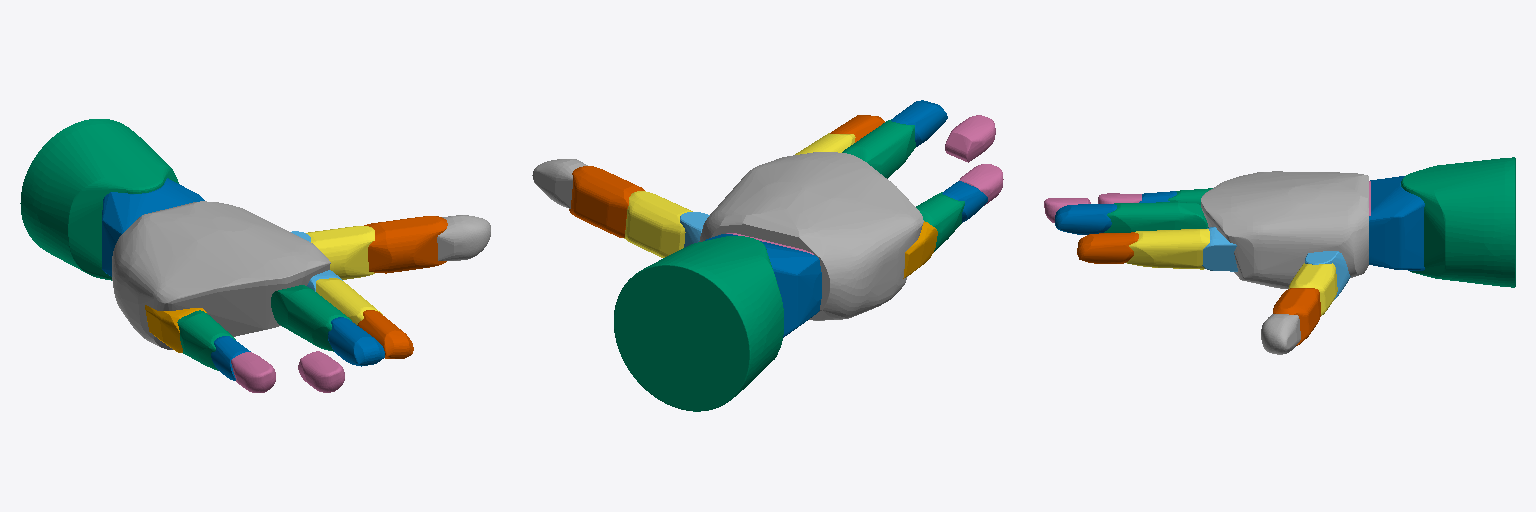
--- Facts derived from the render (not from the file) ---
3 views of the same robot in one strip: view 1: azimuth 30°, elevation 25°; view 2: azimuth 150°, elevation 25°; view 3: azimuth 270°, elevation 25° (orthographic).
Model MPL with 47 links and 46 joints (22 continuous, 24 fixed), rooted at forearm, posed every joint at zero.
Visible links, largest first — view 1: palm, wristy, thumb2, wristx, middle1, thumb1, thumb3, middle2, pinky1, index2, ring3, index1 (+3 smaller); view 2: wristy, palm, wristx, thumb2, thumb1, middle1, ring3, thumb3, pinky1, middle2, pinky0, pinky3 (+4 smaller); view 3: palm, wristy, wristx, index1, middle1, index2, middle2, thumb2, thumb3, thumb1, index0, thumb0.
Boxes of the visible links, x1=… form: palm: x1=112, y1=201, x2=330, y2=349; wristy: x1=20, y1=119, x2=178, y2=280; thumb2: x1=364, y1=216, x2=447, y2=273; wristx: x1=102, y1=178, x2=204, y2=276; middle1: x1=271, y1=285, x2=351, y2=351; thumb1: x1=306, y1=226, x2=374, y2=279; thumb3: x1=437, y1=215, x2=490, y2=260; middle2: x1=328, y1=317, x2=384, y2=366; pinky1: x1=177, y1=310, x2=235, y2=370; index2: x1=357, y1=310, x2=413, y2=358; ring3: x1=298, y1=351, x2=344, y2=392; index1: x1=316, y1=278, x2=382, y2=324; wristy: x1=614, y1=236, x2=783, y2=411; palm: x1=699, y1=152, x2=923, y2=320; wristx: x1=705, y1=234, x2=821, y2=337; thumb2: x1=569, y1=166, x2=644, y2=237; thumb1: x1=624, y1=191, x2=692, y2=257; middle1: x1=842, y1=119, x2=915, y2=178; ring3: x1=945, y1=115, x2=995, y2=162; thumb3: x1=532, y1=159, x2=587, y2=208; pinky1: x1=916, y1=192, x2=964, y2=251; middle2: x1=891, y1=100, x2=947, y2=146; pinky0: x1=903, y1=221, x2=937, y2=278; pinky3: x1=959, y1=164, x2=1003, y2=205; palm: x1=1201, y1=171, x2=1368, y2=288; wristy: x1=1401, y1=157, x2=1515, y2=287; wristx: x1=1369, y1=176, x2=1424, y2=270; index1: x1=1126, y1=229, x2=1209, y2=269; middle1: x1=1104, y1=202, x2=1207, y2=232; index2: x1=1077, y1=232, x2=1138, y2=263; middle2: x1=1055, y1=204, x2=1116, y2=234; thumb2: x1=1273, y1=288, x2=1320, y2=345; thumb3: x1=1261, y1=314, x2=1300, y2=354; thumb1: x1=1289, y1=263, x2=1337, y2=315; index0: x1=1202, y1=227, x2=1237, y2=271; thumb0: x1=1305, y1=251, x2=1350, y2=299.
Bounding box of the posed robot: 0.1896 × 0.2529 × 0.07 m (x, y, z).
18 mesh visuals loaded from 24 distinct referenced files (18 OBJ); not drawn: 6 (reference not matched to a file when rendering).

URDF robot description (MPL):
<?xml version="0.0" ?>
<robot name="MPL">
	<link name="forearm">
		<inertial>
			<origin rpy="0.00000 -0.00000 0.00000" xyz="0.00000 0.00000 0.00000"/>
			<mass value="0.02513"/>
			<inertia ixx="0.00000" ixy="0" ixz="0" iyy="0.00000" iyz="0" izz="0.00001"/>
		</inertial>
		<collision>
			<origin rpy="0.00000 -0.00000 0.00000" xyz="0.00000 0.00000 0.00000"/>
			<geometry>
				<cylinder length="0.02000" radius="0.02000"/>
			</geometry>
		</collision>
	</link>
	<link name="link0_2">
		<inertial>
			<origin rpy="0.00000 -0.00000 0.00000" xyz="0.00000 0.00000 0.00000"/>
			<mass value="0.00000"/>
			<inertia ixx="0.00000" ixy="0" ixz="0" iyy="0.00000" iyz="0" izz="0.00000"/>
		</inertial>
	</link>
	<link name="wristy">
		<inertial>
			<origin rpy="-0.00695 -0.02342 1.56965" xyz="-0.00007 -0.02178 -0.00029"/>
			<mass value="0.02729"/>
			<inertia ixx="0.00011" ixy="0" ixz="0" iyy="0.00010" iyz="0" izz="0.00010"/>
		</inertial>
		<collision>
			<origin rpy="0.00000 -0.00000 0.00000" xyz="0.00000 -0.00000 0.00000"/>
			<geometry>
				<mesh filename="meshes/wristy_collision.obj" scale="1.00000 1.00000 1.00000"/>
			</geometry>
		</collision>
		<visual>
			<origin rpy="0.00000 -0.00000 0.00000" xyz="0.00000 -0.00000 0.00000"/>
			<geometry>
				<mesh filename="meshes/wristy.obj" scale="1.00000 1.00000 1.00000"/>
			</geometry>
		</visual>
	</link>
	<link name="link0_4">
		<inertial>
			<origin rpy="0.00000 -0.00000 0.00000" xyz="0.00000 0.00000 0.00000"/>
			<mass value="0.00000"/>
			<inertia ixx="0.00000" ixy="0" ixz="0" iyy="0.00000" iyz="0" izz="0.00000"/>
		</inertial>
	</link>
	<link name="wristx">
		<inertial>
			<origin rpy="-1.55663 -1.51744 -1.43174" xyz="0.00139 -0.00975 -0.00253"/>
			<mass value="0.01069"/>
			<inertia ixx="0.00005" ixy="0" ixz="0" iyy="0.00004" iyz="0" izz="0.00004"/>
		</inertial>
		<collision>
			<origin rpy="0.00000 -0.00000 0.00000" xyz="-0.00000 0.00000 0.00000"/>
			<geometry>
				<mesh filename="meshes/wristx_collision.obj" scale="1.00000 1.00000 1.00000"/>
			</geometry>
		</collision>
		<visual>
			<origin rpy="0.00000 -0.00000 0.00000" xyz="-0.00000 0.00000 0.00000"/>
			<geometry>
				<mesh filename="meshes/wristx.obj" scale="1.00000 1.00000 1.00000"/>
			</geometry>
		</visual>
	</link>
	<link name="link0_6">
		<inertial>
			<origin rpy="0.00000 -0.00000 0.00000" xyz="0.00000 0.00000 0.00000"/>
			<mass value="0.00000"/>
			<inertia ixx="0.00000" ixy="0" ixz="0" iyy="0.00000" iyz="0" izz="0.00000"/>
		</inertial>
	</link>
	<link name="wristz">
		<inertial>
			<origin rpy="1.56681 0.10125 1.56186" xyz="0.00058 -0.00126 0.00046"/>
			<mass value="0.00602"/>
			<inertia ixx="0.00002" ixy="0" ixz="0" iyy="0.00002" iyz="0" izz="0.00002"/>
		</inertial>
		<collision>
			<origin rpy="0.00000 -0.00000 0.00000" xyz="-0.00000 0.00000 -0.00000"/>
			<geometry>
				<mesh filename="meshes/wristz_collision.obj" scale="1.00000 1.00000 1.00000"/>
			</geometry>
		</collision>
		<visual>
			<origin rpy="0.00000 -0.00000 0.00000" xyz="-0.00000 0.00000 -0.00000"/>
			<geometry>
				<mesh filename="meshes/wristz.obj" scale="1.00000 1.00000 1.00000"/>
			</geometry>
		</visual>
	</link>
	<link name="palm">
		<inertial>
			<origin rpy="-2.25401 -1.46740 -0.53897" xyz="-0.02179 -0.03761 0.00277"/>
			<mass value="0.11987"/>
			<inertia ixx="0.00105" ixy="0" ixz="0" iyy="0.00075" iyz="0" izz="0.00076"/>
		</inertial>
		<collision>
			<origin rpy="0.00000 -0.00000 0.00000" xyz="-0.00000 0.00000 0.00000"/>
			<geometry>
				<mesh filename="meshes/palm_collision.obj" scale="1.00000 1.00000 1.00000"/>
			</geometry>
		</collision>
		<visual>
			<origin rpy="0.00000 -0.00000 0.00000" xyz="-0.00000 0.00000 0.00000"/>
			<geometry>
				<mesh filename="meshes/palm.obj" scale="1.00000 1.00000 1.00000"/>
			</geometry>
		</visual>
	</link>
	<link name="link0_9">
		<inertial>
			<origin rpy="0.00000 -0.00000 0.00000" xyz="0.00000 0.00000 0.00000"/>
			<mass value="0.00000"/>
			<inertia ixx="0.00000" ixy="0" ixz="0" iyy="0.00000" iyz="0" izz="0.00000"/>
		</inertial>
	</link>
	<link name="thumb0">
		<inertial>
			<origin rpy="1.76706 -0.09351 1.62823" xyz="0.00863 -0.00016 -0.00095"/>
			<mass value="0.00337"/>
			<inertia ixx="0.00001" ixy="0" ixz="0" iyy="0.00001" iyz="0" izz="0.00001"/>
		</inertial>
		<collision>
			<origin rpy="0.00000 -0.00000 0.00000" xyz="0.00000 0.00000 0.00000"/>
			<geometry>
				<mesh filename="meshes/thumb0_collision.obj" scale="1.00000 1.00000 1.00000"/>
			</geometry>
		</collision>
		<visual>
			<origin rpy="0.00000 -0.00000 0.00000" xyz="0.00000 0.00000 0.00000"/>
			<geometry>
				<mesh filename="meshes/thumb0.obj" scale="1.00000 1.00000 1.00000"/>
			</geometry>
		</visual>
	</link>
	<link name="link0_11">
		<inertial>
			<origin rpy="0.00000 -0.00000 0.00000" xyz="0.00000 0.00000 0.00000"/>
			<mass value="0.00000"/>
			<inertia ixx="0.00000" ixy="0" ixz="0" iyy="0.00000" iyz="0" izz="0.00000"/>
		</inertial>
	</link>
	<link name="thumb1">
		<inertial>
			<origin rpy="1.48128 0.01362 1.58734" xyz="0.01902 0.00036 -0.00019"/>
			<mass value="0.00596"/>
			<inertia ixx="0.00002" ixy="0" ixz="0" iyy="0.00002" iyz="0" izz="0.00001"/>
		</inertial>
		<collision>
			<origin rpy="0.00000 -0.00000 0.00000" xyz="0.00000 0.00000 -0.00000"/>
			<geometry>
				<mesh filename="meshes/thumb1_collision.obj" scale="1.00000 1.00000 1.00000"/>
			</geometry>
		</collision>
		<visual>
			<origin rpy="0.00000 -0.00000 0.00000" xyz="0.00000 0.00000 -0.00000"/>
			<geometry>
				<mesh filename="meshes/thumb1.obj" scale="1.00000 1.00000 1.00000"/>
			</geometry>
		</visual>
	</link>
	<link name="link0_13">
		<inertial>
			<origin rpy="0.00000 -0.00000 0.00000" xyz="0.00000 0.00000 0.00000"/>
			<mass value="0.00000"/>
			<inertia ixx="0.00000" ixy="0" ixz="0" iyy="0.00000" iyz="0" izz="0.00000"/>
		</inertial>
	</link>
	<link name="thumb2">
		<inertial>
			<origin rpy="1.49293 -0.04106 1.59651" xyz="0.01890 0.00038 0.00065"/>
			<mass value="0.00600"/>
			<inertia ixx="0.00002" ixy="0" ixz="0" iyy="0.00002" iyz="0" izz="0.00001"/>
		</inertial>
		<collision>
			<origin rpy="0.00000 -0.00000 0.00000" xyz="0.00000 0.00000 -0.00000"/>
			<geometry>
				<mesh filename="meshes/thumb2_collision.obj" scale="1.00000 1.00000 1.00000"/>
			</geometry>
		</collision>
		<visual>
			<origin rpy="0.00000 -0.00000 0.00000" xyz="0.00000 0.00000 -0.00000"/>
			<geometry>
				<mesh filename="meshes/thumb2.obj" scale="1.00000 1.00000 1.00000"/>
			</geometry>
		</visual>
	</link>
	<link name="link0_15">
		<inertial>
			<origin rpy="0.00000 -0.00000 0.00000" xyz="0.00000 0.00000 0.00000"/>
			<mass value="0.00000"/>
			<inertia ixx="0.00000" ixy="0" ixz="0" iyy="0.00000" iyz="0" izz="0.00000"/>
		</inertial>
	</link>
	<link name="thumb3">
		<inertial>
			<origin rpy="1.49293 -0.04106 1.59651" xyz="0.01890 0.00038 0.00065"/>
			<mass value="0.00600"/>
			<inertia ixx="0.00001" ixy="0" ixz="0" iyy="0.00001" iyz="0" izz="0.00001"/>
		</inertial>
		<collision>
			<origin rpy="0.00000 -0.00000 0.00000" xyz="0.00000 0.00000 -0.00000"/>
			<geometry>
				<mesh filename="meshes/thumb3_collision.obj" scale="1.00000 1.00000 1.00000"/>
			</geometry>
		</collision>
		<visual>
			<origin rpy="0.00000 -0.00000 0.00000" xyz="0.00000 0.00000 -0.00000"/>
			<geometry>
				<mesh filename="meshes/thumb3.obj" scale="1.00000 1.00000 1.00000"/>
			</geometry>
		</visual>
	</link>
	<link name="link0_17">
		<inertial>
			<origin rpy="0.00000 -0.00000 0.00000" xyz="0.00000 0.00000 0.00000"/>
			<mass value="0.00000"/>
			<inertia ixx="0.00000" ixy="0" ixz="0" iyy="0.00000" iyz="0" izz="0.00000"/>
		</inertial>
	</link>
	<link name="index0">
		<inertial>
			<origin rpy="1.59286 -0.02059 0.01812" xyz="-0.00014 -0.00548 0.00021"/>
			<mass value="0.00296"/>
			<inertia ixx="0.00001" ixy="0" ixz="0" iyy="0.00001" iyz="0" izz="0.00001"/>
		</inertial>
		<collision>
			<origin rpy="0.00000 -0.00000 0.00000" xyz="0.00000 0.00000 0.00000"/>
			<geometry>
				<mesh filename="meshes/index0_collision.obj" scale="1.00000 1.00000 1.00000"/>
			</geometry>
		</collision>
		<visual>
			<origin rpy="0.00000 -0.00000 0.00000" xyz="0.00000 0.00000 0.00000"/>
			<geometry>
				<mesh filename="meshes/index0.obj" scale="1.00000 1.00000 1.00000"/>
			</geometry>
		</visual>
	</link>
	<link name="link0_19">
		<inertial>
			<origin rpy="0.00000 -0.00000 0.00000" xyz="0.00000 0.00000 0.00000"/>
			<mass value="0.00000"/>
			<inertia ixx="0.00000" ixy="0" ixz="0" iyy="0.00000" iyz="0" izz="0.00000"/>
		</inertial>
	</link>
	<link name="index1">
		<inertial>
			<origin rpy="1.59512 -0.00910 -0.00273" xyz="0.00041 -0.02131 0.00066"/>
			<mass value="0.00478"/>
			<inertia ixx="0.00001" ixy="0" ixz="0" iyy="0.00001" iyz="0" izz="0.00001"/>
		</inertial>
		<collision>
			<origin rpy="0.00000 -0.00000 0.00000" xyz="-0.00000 0.00000 -0.00000"/>
			<geometry>
				<mesh filename="meshes/index1_collision.obj" scale="1.00000 1.00000 1.00000"/>
			</geometry>
		</collision>
		<visual>
			<origin rpy="0.00000 -0.00000 0.00000" xyz="-0.00000 0.00000 -0.00000"/>
			<geometry>
				<mesh filename="meshes/index1.obj" scale="1.00000 1.00000 1.00000"/>
			</geometry>
		</visual>
	</link>
	<link name="link0_21">
		<inertial>
			<origin rpy="0.00000 -0.00000 0.00000" xyz="0.00000 0.00000 0.00000"/>
			<mass value="0.00000"/>
			<inertia ixx="0.00000" ixy="0" ixz="0" iyy="0.00000" iyz="0" izz="0.00000"/>
		</inertial>
	</link>
	<link name="index2">
		<inertial>
			<origin rpy="1.49016 -0.05885 -0.02032" xyz="-0.00084 -0.01269 0.00057"/>
			<mass value="0.00345"/>
			<inertia ixx="0.00001" ixy="0" ixz="0" iyy="0.00001" iyz="0" izz="0.00001"/>
		</inertial>
		<collision>
			<origin rpy="0.00000 -0.00000 0.00000" xyz="-0.00000 0.00000 0.00000"/>
			<geometry>
				<mesh filename="meshes/index2_collision.obj" scale="1.00000 1.00000 1.00000"/>
			</geometry>
		</collision>
		<visual>
			<origin rpy="0.00000 -0.00000 0.00000" xyz="-0.00000 0.00000 0.00000"/>
			<geometry>
				<mesh filename="meshes/index2.obj" scale="1.00000 1.00000 1.00000"/>
			</geometry>
		</visual>
	</link>
	<link name="link0_23">
		<inertial>
			<origin rpy="0.00000 -0.00000 0.00000" xyz="0.00000 0.00000 0.00000"/>
			<mass value="0.00000"/>
			<inertia ixx="0.00000" ixy="0" ixz="0" iyy="0.00000" iyz="0" izz="0.00000"/>
		</inertial>
	</link>
	<link name="index3">
		<inertial>
			<origin rpy="-0.00887 -1.50417 1.57958" xyz="0.00004 -0.01253 0.00090"/>
			<mass value="0.00274"/>
			<inertia ixx="0.00001" ixy="0" ixz="0" iyy="0.00001" iyz="0" izz="0.00000"/>
		</inertial>
		<collision>
			<origin rpy="0.00000 -0.00000 0.00000" xyz="0.00000 0.00000 -0.00000"/>
			<geometry>
				<mesh filename="meshes/index3_collision.obj" scale="1.00000 1.00000 1.00000"/>
			</geometry>
		</collision>
		<visual>
			<origin rpy="0.00000 -0.00000 0.00000" xyz="0.00000 0.00000 -0.00000"/>
			<geometry>
				<mesh filename="meshes/index3.obj" scale="1.00000 1.00000 1.00000"/>
			</geometry>
		</visual>
	</link>
	<link name="middle0">
		<inertial>
			<origin rpy="1.59286 -0.02059 0.01812" xyz="-0.00014 -0.00548 0.00021"/>
			<mass value="0.00296"/>
			<inertia ixx="0.00001" ixy="0" ixz="0" iyy="0.00001" iyz="0" izz="0.00001"/>
		</inertial>
		<collision>
			<origin rpy="0.00000 -0.00000 0.00000" xyz="0.00000 0.00000 0.00000"/>
			<geometry>
				<mesh filename="meshes/middle0_collision.obj" scale="1.00000 1.00000 1.00000"/>
			</geometry>
		</collision>
		<visual>
			<origin rpy="0.00000 -0.00000 0.00000" xyz="0.00000 0.00000 0.00000"/>
			<geometry>
				<mesh filename="meshes/middle0.obj" scale="1.00000 1.00000 1.00000"/>
			</geometry>
		</visual>
	</link>
	<link name="link0_26">
		<inertial>
			<origin rpy="0.00000 -0.00000 0.00000" xyz="0.00000 0.00000 0.00000"/>
			<mass value="0.00000"/>
			<inertia ixx="0.00000" ixy="0" ixz="0" iyy="0.00000" iyz="0" izz="0.00000"/>
		</inertial>
	</link>
	<link name="middle1">
		<inertial>
			<origin rpy="1.59512 -0.00910 -0.00273" xyz="0.00041 -0.02131 0.00066"/>
			<mass value="0.00478"/>
			<inertia ixx="0.00001" ixy="0" ixz="0" iyy="0.00001" iyz="0" izz="0.00001"/>
		</inertial>
		<collision>
			<origin rpy="0.00000 -0.00000 0.00000" xyz="0.00000 0.00000 0.00000"/>
			<geometry>
				<mesh filename="meshes/middle1_collision.obj" scale="1.00000 1.00000 1.00000"/>
			</geometry>
		</collision>
		<visual>
			<origin rpy="0.00000 -0.00000 0.00000" xyz="0.00000 0.00000 0.00000"/>
			<geometry>
				<mesh filename="meshes/middle1.obj" scale="1.00000 1.00000 1.00000"/>
			</geometry>
		</visual>
	</link>
	<link name="link0_28">
		<inertial>
			<origin rpy="0.00000 -0.00000 0.00000" xyz="0.00000 0.00000 0.00000"/>
			<mass value="0.00000"/>
			<inertia ixx="0.00000" ixy="0" ixz="0" iyy="0.00000" iyz="0" izz="0.00000"/>
		</inertial>
	</link>
	<link name="middle2">
		<inertial>
			<origin rpy="1.49015 -0.05874 -0.02033" xyz="-0.00084 -0.01269 0.00057"/>
			<mass value="0.00345"/>
			<inertia ixx="0.00001" ixy="0" ixz="0" iyy="0.00001" iyz="0" izz="0.00001"/>
		</inertial>
		<collision>
			<origin rpy="0.00000 -0.00000 0.00000" xyz="0.00000 -0.00000 -0.00000"/>
			<geometry>
				<mesh filename="meshes/middle2_collision.obj" scale="1.00000 1.00000 1.00000"/>
			</geometry>
		</collision>
		<visual>
			<origin rpy="0.00000 -0.00000 0.00000" xyz="0.00000 -0.00000 -0.00000"/>
			<geometry>
				<mesh filename="meshes/middle2.obj" scale="1.00000 1.00000 1.00000"/>
			</geometry>
		</visual>
	</link>
	<link name="link0_30">
		<inertial>
			<origin rpy="0.00000 -0.00000 0.00000" xyz="0.00000 0.00000 0.00000"/>
			<mass value="0.00000"/>
			<inertia ixx="0.00000" ixy="0" ixz="0" iyy="0.00000" iyz="0" izz="0.00000"/>
		</inertial>
	</link>
	<link name="middle3">
		<inertial>
			<origin rpy="-0.00814 -1.50417 1.57884" xyz="0.00004 -0.01253 0.00090"/>
			<mass value="0.00274"/>
			<inertia ixx="0.00001" ixy="0" ixz="0" iyy="0.00001" iyz="0" izz="0.00000"/>
		</inertial>
		<collision>
			<origin rpy="0.00000 -0.00000 0.00000" xyz="-0.00000 -0.00000 -0.00000"/>
			<geometry>
				<mesh filename="meshes/middle3_collision.obj" scale="1.00000 1.00000 1.00000"/>
			</geometry>
		</collision>
		<visual>
			<origin rpy="0.00000 -0.00000 0.00000" xyz="-0.00000 -0.00000 -0.00000"/>
			<geometry>
				<mesh filename="meshes/middle3.obj" scale="1.00000 1.00000 1.00000"/>
			</geometry>
		</visual>
	</link>
	<link name="link0_32">
		<inertial>
			<origin rpy="0.00000 -0.00000 0.00000" xyz="0.00000 0.00000 0.00000"/>
			<mass value="0.00000"/>
			<inertia ixx="0.00000" ixy="0" ixz="0" iyy="0.00000" iyz="0" izz="0.00000"/>
		</inertial>
	</link>
	<link name="ring0">
		<inertial>
			<origin rpy="1.59286 -0.02058 0.01812" xyz="-0.00014 -0.00548 0.00021"/>
			<mass value="0.00296"/>
			<inertia ixx="0.00001" ixy="0" ixz="0" iyy="0.00001" iyz="0" izz="0.00001"/>
		</inertial>
		<collision>
			<origin rpy="0.00000 -0.00000 0.00000" xyz="0.00000 -0.00000 0.00000"/>
			<geometry>
				<mesh filename="meshes/ring0_collision.obj" scale="1.00000 1.00000 1.00000"/>
			</geometry>
		</collision>
		<visual>
			<origin rpy="0.00000 -0.00000 0.00000" xyz="0.00000 -0.00000 0.00000"/>
			<geometry>
				<mesh filename="meshes/ring0.obj" scale="1.00000 1.00000 1.00000"/>
			</geometry>
		</visual>
	</link>
	<link name="link0_34">
		<inertial>
			<origin rpy="0.00000 -0.00000 0.00000" xyz="0.00000 0.00000 0.00000"/>
			<mass value="0.00000"/>
			<inertia ixx="0.00000" ixy="0" ixz="0" iyy="0.00000" iyz="0" izz="0.00000"/>
		</inertial>
	</link>
	<link name="ring1">
		<inertial>
			<origin rpy="1.59512 -0.00911 -0.00273" xyz="0.00041 -0.02131 0.00066"/>
			<mass value="0.00478"/>
			<inertia ixx="0.00001" ixy="0" ixz="0" iyy="0.00001" iyz="0" izz="0.00001"/>
		</inertial>
		<collision>
			<origin rpy="0.00000 -0.00000 0.00000" xyz="-0.00000 0.00000 0.00000"/>
			<geometry>
				<mesh filename="meshes/ring1_collision.obj" scale="1.00000 1.00000 1.00000"/>
			</geometry>
		</collision>
		<visual>
			<origin rpy="0.00000 -0.00000 0.00000" xyz="-0.00000 0.00000 0.00000"/>
			<geometry>
				<mesh filename="meshes/ring1.obj" scale="1.00000 1.00000 1.00000"/>
			</geometry>
		</visual>
	</link>
	<link name="link0_36">
		<inertial>
			<origin rpy="0.00000 -0.00000 0.00000" xyz="0.00000 0.00000 0.00000"/>
			<mass value="0.00000"/>
			<inertia ixx="0.00000" ixy="0" ixz="0" iyy="0.00000" iyz="0" izz="0.00000"/>
		</inertial>
	</link>
	<link name="ring2">
		<inertial>
			<origin rpy="1.49016 -0.05905 -0.02030" xyz="-0.00084 -0.01269 0.00057"/>
			<mass value="0.00345"/>
			<inertia ixx="0.00001" ixy="0" ixz="0" iyy="0.00001" iyz="0" izz="0.00001"/>
		</inertial>
		<collision>
			<origin rpy="0.00000 -0.00000 0.00000" xyz="0.00000 0.00000 0.00000"/>
			<geometry>
				<mesh filename="meshes/ring2_collision.obj" scale="1.00000 1.00000 1.00000"/>
			</geometry>
		</collision>
		<visual>
			<origin rpy="0.00000 -0.00000 0.00000" xyz="0.00000 0.00000 0.00000"/>
			<geometry>
				<mesh filename="meshes/ring2.obj" scale="1.00000 1.00000 1.00000"/>
			</geometry>
		</visual>
	</link>
	<link name="link0_38">
		<inertial>
			<origin rpy="0.00000 -0.00000 0.00000" xyz="0.00000 0.00000 0.00000"/>
			<mass value="0.00000"/>
			<inertia ixx="0.00000" ixy="0" ixz="0" iyy="0.00000" iyz="0" izz="0.00000"/>
		</inertial>
	</link>
	<link name="ring3">
		<inertial>
			<origin rpy="-0.00870 -1.50417 1.57940" xyz="0.00004 -0.01253 0.00090"/>
			<mass value="0.00274"/>
			<inertia ixx="0.00001" ixy="0" ixz="0" iyy="0.00001" iyz="0" izz="0.00000"/>
		</inertial>
		<collision>
			<origin rpy="0.00000 -0.00000 0.00000" xyz="0.00000 0.00000 0.00000"/>
			<geometry>
				<mesh filename="meshes/ring3_collision.obj" scale="1.00000 1.00000 1.00000"/>
			</geometry>
		</collision>
		<visual>
			<origin rpy="0.00000 -0.00000 0.00000" xyz="0.00000 0.00000 0.00000"/>
			<geometry>
				<mesh filename="meshes/ring3.obj" scale="1.00000 1.00000 1.00000"/>
			</geometry>
		</visual>
	</link>
	<link name="link0_40">
		<inertial>
			<origin rpy="0.00000 -0.00000 0.00000" xyz="0.00000 0.00000 0.00000"/>
			<mass value="0.00000"/>
			<inertia ixx="0.00000" ixy="0" ixz="0" iyy="0.00000" iyz="0" izz="0.00000"/>
		</inertial>
	</link>
	<link name="pinky0">
		<inertial>
			<origin rpy="1.59286 -0.02058 0.01812" xyz="-0.00014 -0.00538 0.00021"/>
			<mass value="0.00296"/>
			<inertia ixx="0.00001" ixy="0" ixz="0" iyy="0.00001" iyz="0" izz="0.00001"/>
		</inertial>
		<collision>
			<origin rpy="0.00000 -0.00000 0.00000" xyz="0.00000 0.00000 0.00000"/>
			<geometry>
				<mesh filename="meshes/pinky0_collision.obj" scale="1.00000 1.00000 1.00000"/>
			</geometry>
		</collision>
		<visual>
			<origin rpy="0.00000 -0.00000 0.00000" xyz="0.00000 0.00000 0.00000"/>
			<geometry>
				<mesh filename="meshes/pinky0.obj" scale="1.00000 1.00000 1.00000"/>
			</geometry>
		</visual>
	</link>
	<link name="link0_42">
		<inertial>
			<origin rpy="0.00000 -0.00000 0.00000" xyz="0.00000 0.00000 0.00000"/>
			<mass value="0.00000"/>
			<inertia ixx="0.00000" ixy="0" ixz="0" iyy="0.00000" iyz="0" izz="0.00000"/>
		</inertial>
	</link>
	<link name="pinky1">
		<inertial>
			<origin rpy="1.62960 0.06859 -0.00625" xyz="0.00046 -0.01605 0.00092"/>
			<mass value="0.00341"/>
			<inertia ixx="0.00001" ixy="0" ixz="0" iyy="0.00001" iyz="0" izz="0.00001"/>
		</inertial>
		<collision>
			<origin rpy="0.00000 -0.00000 0.00000" xyz="0.00000 0.00000 0.00000"/>
			<geometry>
				<mesh filename="meshes/pinky1_collision.obj" scale="1.00000 1.00000 1.00000"/>
			</geometry>
		</collision>
		<visual>
			<origin rpy="0.00000 -0.00000 0.00000" xyz="0.00000 0.00000 0.00000"/>
			<geometry>
				<mesh filename="meshes/pinky1.obj" scale="1.00000 1.00000 1.00000"/>
			</geometry>
		</visual>
	</link>
	<link name="link0_44">
		<inertial>
			<origin rpy="0.00000 -0.00000 0.00000" xyz="0.00000 0.00000 0.00000"/>
			<mass value="0.00000"/>
			<inertia ixx="0.00000" ixy="0" ixz="0" iyy="0.00000" iyz="0" izz="0.00000"/>
		</inertial>
	</link>
	<link name="pinky2">
		<inertial>
			<origin rpy="1.45350 0.03711 -0.04187" xyz="-0.00027 -0.00915 0.00074"/>
			<mass value="0.00251"/>
			<inertia ixx="0.00001" ixy="0" ixz="0" iyy="0.00001" iyz="0" izz="0.00001"/>
		</inertial>
		<collision>
			<origin rpy="0.00000 -0.00000 0.00000" xyz="-0.00000 -0.00000 0.00000"/>
			<geometry>
				<mesh filename="meshes/pinky2_collision.obj" scale="1.00000 1.00000 1.00000"/>
			</geometry>
		</collision>
		<visual>
			<origin rpy="0.00000 -0.00000 0.00000" xyz="-0.00000 -0.00000 0.00000"/>
			<geometry>
				<mesh filename="meshes/pinky2.obj" scale="1.00000 1.00000 1.00000"/>
			</geometry>
		</visual>
	</link>
	<link name="link0_46">
		<inertial>
			<origin rpy="0.00000 -0.00000 0.00000" xyz="0.00000 0.00000 0.00000"/>
			<mass value="0.00000"/>
			<inertia ixx="0.00000" ixy="0" ixz="0" iyy="0.00000" iyz="0" izz="0.00000"/>
		</inertial>
	</link>
	<link name="pinky3">
		<inertial>
			<origin rpy="0.03154 -1.50676 1.54007" xyz="0.00004 -0.01250 0.00091"/>
			<mass value="0.00273"/>
			<inertia ixx="0.00001" ixy="0" ixz="0" iyy="0.00001" iyz="0" izz="0.00000"/>
		</inertial>
		<collision>
			<origin rpy="0.00000 -0.00000 0.00000" xyz="-0.00000 0.00000 -0.00000"/>
			<geometry>
				<mesh filename="meshes/pinky3_collision.obj" scale="1.00000 1.00000 1.00000"/>
			</geometry>
		</collision>
		<visual>
			<origin rpy="0.00000 -0.00000 0.00000" xyz="-0.00000 0.00000 -0.00000"/>
			<geometry>
				<mesh filename="meshes/pinky3.obj" scale="1.00000 1.00000 1.00000"/>
			</geometry>
		</visual>
	</link>
	<joint name="wrist_PRO" type="continuous">
		<parent link="forearm"/>
		<child link="link0_2"/>
		<dynamics damping="1.0" friction="0.0001"/>
		<origin rpy="0.00000 -0.00000 0.00000" xyz="0.00000 0.00000 0.00000"/>
		<axis xyz="0.00000 1.00000 0.00000"/>
	</joint>
	<joint name="jointfix_23_2" type="fixed">
		<parent link="link0_2"/>
		<child link="wristy"/>
		<dynamics damping="1.0" friction="0.0001"/>
		<origin rpy="0.00000 -0.00000 0.00000" xyz="0.00000 0.00000 0.00000"/>
		<axis xyz="0.00000 0.00000 0.00000"/>
	</joint>
	<joint name="wrist_UDEV" type="continuous">
		<parent link="wristy"/>
		<child link="link0_4"/>
		<dynamics damping="1.0" friction="0.0001"/>
		<origin rpy="-0.00000 -0.00000 -0.00000" xyz="-0.00003 -0.04765 0.00204"/>
		<axis xyz="0.00000 0.00000 -1.00000"/>
	</joint>
	<joint name="jointfix_22_4" type="fixed">
		<parent link="link0_4"/>
		<child link="wristx"/>
		<dynamics damping="1.0" friction="0.0001"/>
		<origin rpy="0.00000 -0.00000 0.00000" xyz="0.00000 0.00000 0.00000"/>
		<axis xyz="0.00000 0.00000 0.00000"/>
	</joint>
	<joint name="wrist_FLEX" type="continuous">
		<parent link="wristx"/>
		<child link="link0_6"/>
		<dynamics damping="1.0" friction="0.0001"/>
		<origin rpy="0.00000 -0.00000 0.00000" xyz="0.00019 -0.03000 -0.00209"/>
		<axis xyz="1.00000 0.00000 0.00000"/>
	</joint>
	<joint name="jointfix_21_6" type="fixed">
		<parent link="link0_6"/>
		<child link="wristz"/>
		<dynamics damping="1.0" friction="0.0001"/>
		<origin rpy="0.00000 -0.00000 0.00000" xyz="0.00000 0.00000 0.00000"/>
		<axis xyz="0.00000 0.00000 0.00000"/>
	</joint>
	<joint name="jointfix_20_5" type="fixed">
		<parent link="wristz"/>
		<child link="palm"/>
		<dynamics damping="1.0" friction="0.0001"/>
		<origin rpy="0.00000 -0.00000 0.00000" xyz="0.02562 -0.00000 -0.00000"/>
		<axis xyz="0.00000 0.00000 0.00000"/>
	</joint>
	<joint name="thumb_ABD" type="continuous">
		<parent link="palm"/>
		<child link="link0_9"/>
		<dynamics damping="1.0" friction="0.0001"/>
		<origin rpy="0.08738 -0.03058 -0.26537" xyz="0.00836 -0.02070 -0.01009"/>
		<axis xyz="0.00000 1.00000 0.00000"/>
	</joint>
	<joint name="jointfix_3_9" type="fixed">
		<parent link="link0_9"/>
		<child link="thumb0"/>
		<dynamics damping="1.0" friction="0.0001"/>
		<origin rpy="0.00000 -0.00000 0.00000" xyz="0.00000 0.00000 0.00000"/>
		<axis xyz="0.00000 0.00000 0.00000"/>
	</joint>
	<joint name="thumb_MCP" type="continuous">
		<parent link="thumb0"/>
		<child link="link0_11"/>
		<dynamics damping="1.0" friction="0.0001"/>
		<origin rpy="0.00000 -0.00000 0.00000" xyz="0.02092 -0.00084 0.00145"/>
		<axis xyz="0.00000 0.00000 -1.00000"/>
	</joint>
	<joint name="jointfix_2_11" type="fixed">
		<parent link="link0_11"/>
		<child link="thumb1"/>
		<dynamics damping="1.0" friction="0.0001"/>
		<origin rpy="0.00000 -0.00000 0.00000" xyz="0.00000 0.00000 0.00000"/>
		<axis xyz="0.00000 0.00000 0.00000"/>
	</joint>
	<joint name="thumb_PIP" type="continuous">
		<parent link="thumb1"/>
		<child link="link0_13"/>
		<dynamics damping="1.0" friction="0.0001"/>
		<origin rpy="-0.00000 -0.00000 -0.00000" xyz="0.03350 -0.00000 -0.00074"/>
		<axis xyz="0.00000 0.00000 -1.00000"/>
	</joint>
	<joint name="jointfix_1_13" type="fixed">
		<parent link="link0_13"/>
		<child link="thumb2"/>
		<dynamics damping="1.0" friction="0.0001"/>
		<origin rpy="0.00000 -0.00000 0.00000" xyz="0.00000 0.00000 0.00000"/>
		<axis xyz="0.00000 0.00000 0.00000"/>
	</joint>
	<joint name="thumb_DIP" type="continuous">
		<parent link="thumb2"/>
		<child link="link0_15"/>
		<dynamics damping="1.0" friction="0.0001"/>
		<origin rpy="-0.00000 -0.00000 0.00000" xyz="0.03350 -0.00000 0.00109"/>
		<axis xyz="0.00000 0.00000 -1.00000"/>
	</joint>
	<joint name="jointfix_0_15" type="fixed">
		<parent link="link0_15"/>
		<child link="thumb3"/>
		<dynamics damping="1.0" friction="0.0001"/>
		<origin rpy="0.00000 -0.00000 0.00000" xyz="0.00000 0.00000 0.00000"/>
		<axis xyz="0.00000 0.00000 0.00000"/>
	</joint>
	<joint name="index_ABD" type="continuous">
		<parent link="palm"/>
		<child link="link0_17"/>
		<dynamics damping="1.0" friction="0.0001"/>
		<origin rpy="-0.00000 0.17453 -0.00000" xyz="0.00986 -0.06580 0.00101"/>
		<axis xyz="0.00000 0.00000 1.00000"/>
	</joint>
	<joint name="jointfix_7_17" type="fixed">
		<parent link="link0_17"/>
		<child link="index0"/>
		<dynamics damping="1.0" friction="0.0001"/>
		<origin rpy="0.00000 -0.00000 0.00000" xyz="0.00000 0.00000 0.00000"/>
		<axis xyz="0.00000 0.00000 0.00000"/>
	</joint>
	<joint name="index_MCP" type="continuous">
		<parent link="index0"/>
		<child link="link0_19"/>
		<dynamics damping="1.0" friction="0.0001"/>
		<origin rpy="-0.00000 -0.00000 -0.00000" xyz="0.00006 -0.01800 -0.00000"/>
		<axis xyz="1.00000 0.00000 0.00000"/>
	</joint>
	<joint name="jointfix_6_19" type="fixed">
		<parent link="link0_19"/>
		<child link="index1"/>
		<dynamics damping="1.0" friction="0.0001"/>
		<origin rpy="0.00000 -0.00000 0.00000" xyz="0.00000 0.00000 0.00000"/>
		<axis xyz="0.00000 0.00000 0.00000"/>
	</joint>
	<joint name="index_PIP" type="continuous">
		<parent link="index1"/>
		<child link="link0_21"/>
		<dynamics damping="1.0" friction="0.0001"/>
		<origin rpy="0.00000 -0.00000 0.00000" xyz="0.00109 -0.04350 0.00050"/>
		<axis xyz="1.00000 0.00000 0.00000"/>
	</joint>
	<joint name="jointfix_5_21" type="fixed">
		<parent link="link0_21"/>
		<child link="index2"/>
		<dynamics damping="1.0" friction="0.0001"/>
		<origin rpy="0.00000 -0.00000 0.00000" xyz="0.00000 0.00000 0.00000"/>
		<axis xyz="0.00000 0.00000 0.00000"/>
	</joint>
	<joint name="index_DIP" type="continuous">
		<parent link="index2"/>
		<child link="link0_23"/>
		<dynamics damping="1.0" friction="0.0001"/>
		<origin rpy="0.00000 -0.00000 -0.00000" xyz="-0.00063 -0.02450 -0.00000"/>
		<axis xyz="1.00000 0.00000 0.00000"/>
	</joint>
	<joint name="jointfix_4_23" type="fixed">
		<parent link="link0_23"/>
		<child link="index3"/>
		<dynamics damping="1.0" friction="0.0001"/>
		<origin rpy="0.00000 -0.00000 0.00000" xyz="0.00000 0.00000 0.00000"/>
		<axis xyz="0.00000 0.00000 0.00000"/>
	</joint>
	<joint name="jointfix_11_7" type="fixed">
		<parent link="palm"/>
		<child link="middle0"/>
		<dynamics damping="1.0" friction="0.0001"/>
		<origin rpy="-0.02778 -0.00000 0.00000" xyz="-0.01281 -0.07790 0.00545"/>
		<axis xyz="0.00000 0.00000 0.00000"/>
	</joint>
	<joint name="middle_MCP" type="continuous">
		<parent link="middle0"/>
		<child link="link0_26"/>
		<dynamics damping="1.0" friction="0.0001"/>
		<origin rpy="-0.00000 0.00000 -0.00000" xyz="0.00006 -0.01800 -0.00000"/>
		<axis xyz="1.00000 0.00000 0.00000"/>
	</joint>
	<joint name="jointfix_10_26" type="fixed">
		<parent link="link0_26"/>
		<child link="middle1"/>
		<dynamics damping="1.0" friction="0.0001"/>
		<origin rpy="0.00000 -0.00000 0.00000" xyz="0.00000 0.00000 0.00000"/>
		<axis xyz="0.00000 0.00000 0.00000"/>
	</joint>
	<joint name="middle_PIP" type="continuous">
		<parent link="middle1"/>
		<child link="link0_28"/>
		<dynamics damping="1.0" friction="0.0001"/>
		<origin rpy="-0.00000 0.00000 -0.00000" xyz="0.00109 -0.04350 0.00050"/>
		<axis xyz="1.00000 0.00000 0.00000"/>
	</joint>
	<joint name="jointfix_9_28" type="fixed">
		<parent link="link0_28"/>
		<child link="middle2"/>
		<dynamics damping="1.0" friction="0.0001"/>
		<origin rpy="0.00000 -0.00000 0.00000" xyz="0.00000 0.00000 0.00000"/>
		<axis xyz="0.00000 0.00000 0.00000"/>
	</joint>
	<joint name="middle_DIP" type="continuous">
		<parent link="middle2"/>
		<child link="link0_30"/>
		<dynamics damping="1.0" friction="0.0001"/>
		<origin rpy="0.00000 -0.00000 0.00000" xyz="-0.00063 -0.02450 0.00000"/>
		<axis xyz="1.00000 0.00000 0.00000"/>
	</joint>
	<joint name="jointfix_8_30" type="fixed">
		<parent link="link0_30"/>
		<child link="middle3"/>
		<dynamics damping="1.0" friction="0.0001"/>
		<origin rpy="0.00000 -0.00000 0.00000" xyz="0.00000 0.00000 0.00000"/>
		<axis xyz="0.00000 0.00000 0.00000"/>
	</joint>
	<joint name="ring_ABD" type="continuous">
		<parent link="palm"/>
		<child link="link0_32"/>
		<dynamics damping="1.0" friction="0.0001"/>
		<origin rpy="0.00000 -0.17453 -0.00000" xyz="-0.03549 -0.06670 0.00151"/>
		<axis xyz="0.00000 0.00000 -1.00000"/>
	</joint>
	<joint name="jointfix_15_32" type="fixed">
		<parent link="link0_32"/>
		<child link="ring0"/>
		<dynamics damping="1.0" friction="0.0001"/>
		<origin rpy="0.00000 -0.00000 0.00000" xyz="0.00000 0.00000 0.00000"/>
		<axis xyz="0.00000 0.00000 0.00000"/>
	</joint>
	<joint name="ring_MCP" type="continuous">
		<parent link="ring0"/>
		<child link="link0_34"/>
		<dynamics damping="1.0" friction="0.0001"/>
		<origin rpy="-0.00000 0.00000 -0.00000" xyz="0.00006 -0.01800 -0.00000"/>
		<axis xyz="1.00000 0.00000 0.00000"/>
	</joint>
	<joint name="jointfix_14_34" type="fixed">
		<parent link="link0_34"/>
		<child link="ring1"/>
		<dynamics damping="1.0" friction="0.0001"/>
		<origin rpy="0.00000 -0.00000 0.00000" xyz="0.00000 0.00000 0.00000"/>
		<axis xyz="0.00000 0.00000 0.00000"/>
	</joint>
	<joint name="ring_PIP" type="continuous">
		<parent link="ring1"/>
		<child link="link0_36"/>
		<dynamics damping="1.0" friction="0.0001"/>
		<origin rpy="-0.00000 0.00000 -0.00000" xyz="0.00109 -0.04350 0.00050"/>
		<axis xyz="1.00000 0.00000 0.00000"/>
	</joint>
	<joint name="jointfix_13_36" type="fixed">
		<parent link="link0_36"/>
		<child link="ring2"/>
		<dynamics damping="1.0" friction="0.0001"/>
		<origin rpy="0.00000 -0.00000 0.00000" xyz="0.00000 0.00000 0.00000"/>
		<axis xyz="0.00000 0.00000 0.00000"/>
	</joint>
	<joint name="ring_DIP" type="continuous">
		<parent link="ring2"/>
		<child link="link0_38"/>
		<dynamics damping="1.0" friction="0.0001"/>
		<origin rpy="-0.00000 0.00000 -0.00000" xyz="-0.00064 -0.02450 -0.00000"/>
		<axis xyz="1.00000 0.00000 0.00000"/>
	</joint>
	<joint name="jointfix_12_38" type="fixed">
		<parent link="link0_38"/>
		<child link="ring3"/>
		<dynamics damping="1.0" friction="0.0001"/>
		<origin rpy="0.00000 -0.00000 0.00000" xyz="0.00000 0.00000 0.00000"/>
		<axis xyz="0.00000 0.00000 0.00000"/>
	</joint>
	<joint name="pinky_ABD" type="continuous">
		<parent link="palm"/>
		<child link="link0_40"/>
		<dynamics damping="1.0" friction="0.0001"/>
		<origin rpy="0.00000 -0.17453 -0.00000" xyz="-0.05625 -0.05540 -0.00564"/>
		<axis xyz="0.00000 0.00000 -1.00000"/>
	</joint>
	<joint name="jointfix_19_40" type="fixed">
		<parent link="link0_40"/>
		<child link="pinky0"/>
		<dynamics damping="1.0" friction="0.0001"/>
		<origin rpy="0.00000 -0.00000 0.00000" xyz="0.00000 0.00000 0.00000"/>
		<axis xyz="0.00000 0.00000 0.00000"/>
	</joint>
	<joint name="pinky_MCP" type="continuous">
		<parent link="pinky0"/>
		<child link="link0_42"/>
		<dynamics damping="1.0" friction="0.0001"/>
		<origin rpy="-0.00000 -0.00000 -0.00000" xyz="0.00006 -0.01790 -0.00000"/>
		<axis xyz="1.00000 0.00000 0.00000"/>
	</joint>
	<joint name="jointfix_18_42" type="fixed">
		<parent link="link0_42"/>
		<child link="pinky1"/>
		<dynamics damping="1.0" friction="0.0001"/>
		<origin rpy="0.00000 -0.00000 0.00000" xyz="0.00000 0.00000 0.00000"/>
		<axis xyz="0.00000 0.00000 0.00000"/>
	</joint>
	<joint name="pinky_PIP" type="continuous">
		<parent link="pinky1"/>
		<child link="link0_44"/>
		<dynamics damping="1.0" friction="0.0001"/>
		<origin rpy="0.00000 0.00000 0.00000" xyz="0.00058 -0.03300 0.00050"/>
		<axis xyz="1.00000 0.00000 0.00000"/>
	</joint>
	<joint name="jointfix_17_44" type="fixed">
		<parent link="link0_44"/>
		<child link="pinky2"/>
		<dynamics damping="1.0" friction="0.0001"/>
		<origin rpy="0.00000 -0.00000 0.00000" xyz="0.00000 0.00000 0.00000"/>
		<axis xyz="0.00000 0.00000 0.00000"/>
	</joint>
	<joint name="pinky_DIP" type="continuous">
		<parent link="pinky2"/>
		<child link="link0_46"/>
		<dynamics damping="1.0" friction="0.0001"/>
		<origin rpy="-0.00000 0.00000 0.00000" xyz="-0.00005 -0.01750 -0.00000"/>
		<axis xyz="1.00000 0.00000 0.00000"/>
	</joint>
	<joint name="jointfix_16_46" type="fixed">
		<parent link="link0_46"/>
		<child link="pinky3"/>
		<dynamics damping="1.0" friction="0.0001"/>
		<origin rpy="0.00000 -0.00000 0.00000" xyz="0.00000 0.00000 0.00000"/>
		<axis xyz="0.00000 0.00000 0.00000"/>
	</joint>
</robot>
